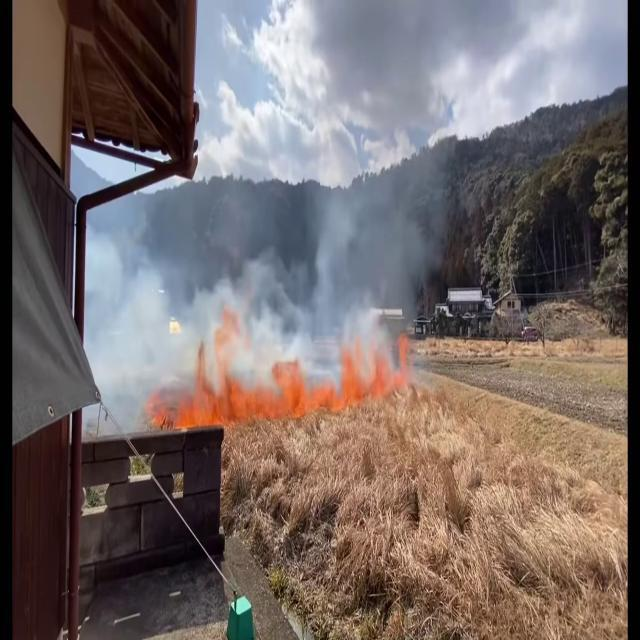Fire: (145, 312, 370, 432)
Smoke: (144, 131, 458, 357)
